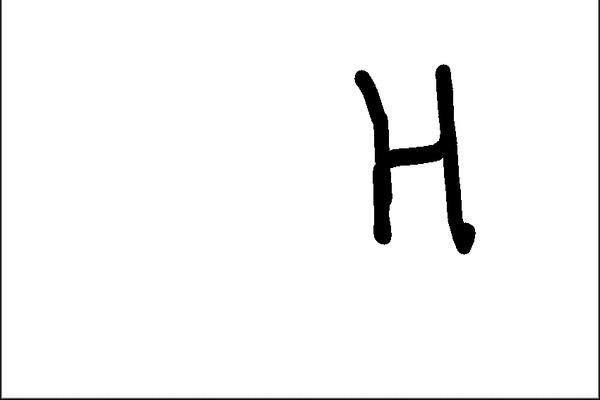H: (340, 55, 480, 260)
